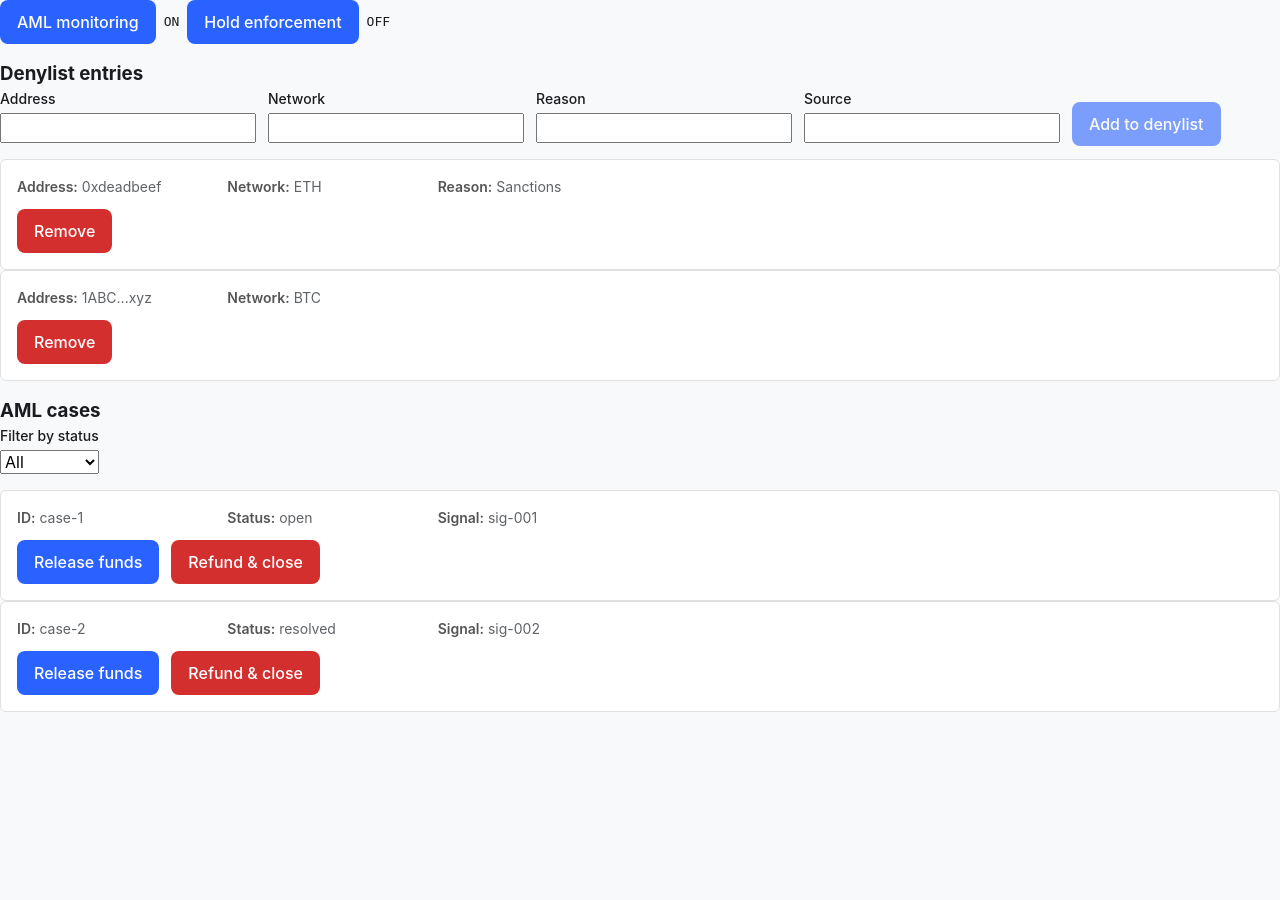
Test: AmlOps — cases › clicking approve button opens the resolve dialog
Click the button "Release funds" below "case-1" at (88, 562), box top-left (17, 540), bottom-right (159, 584)
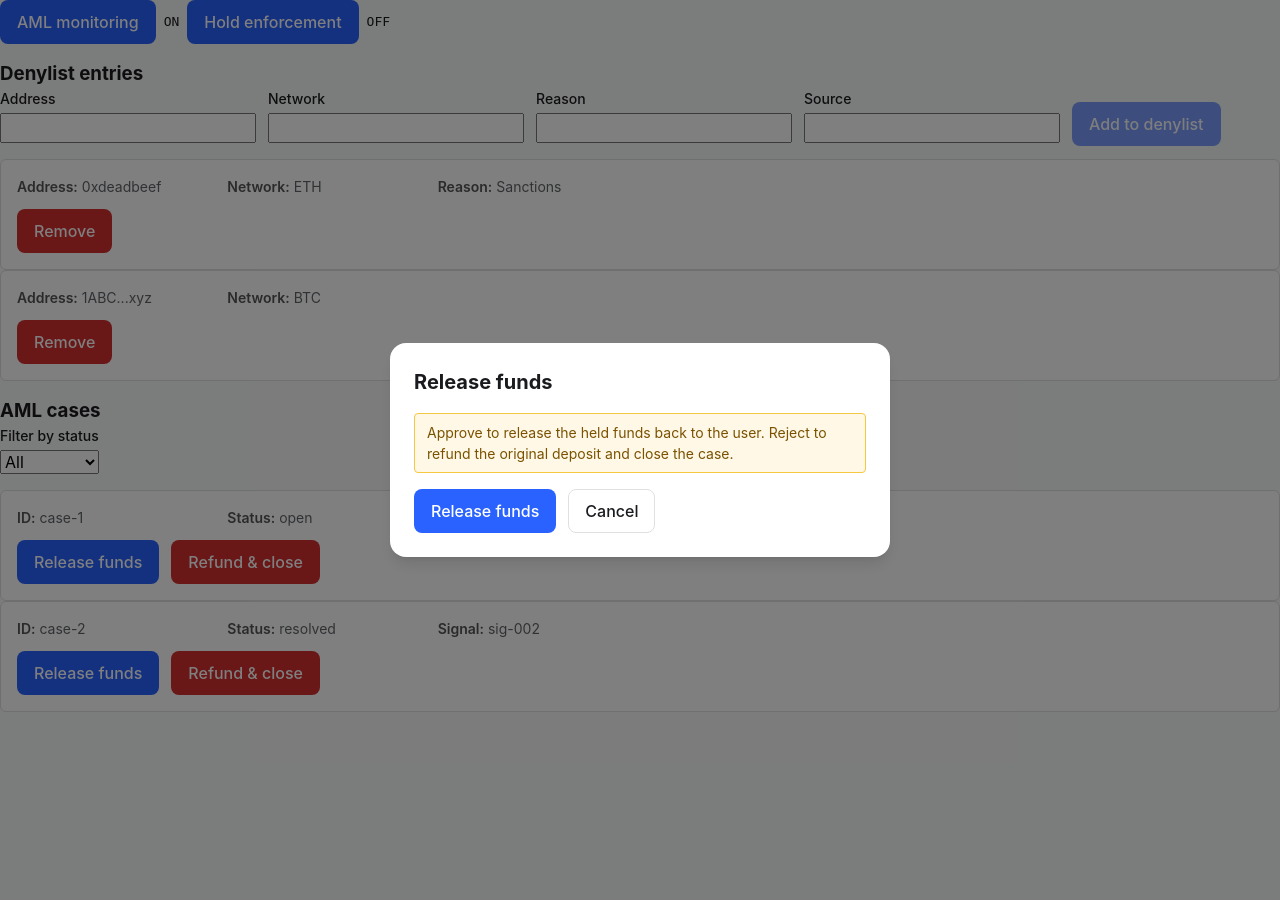
Now the dialog is shown, box top-left (390, 343), bottom-right (890, 557)
